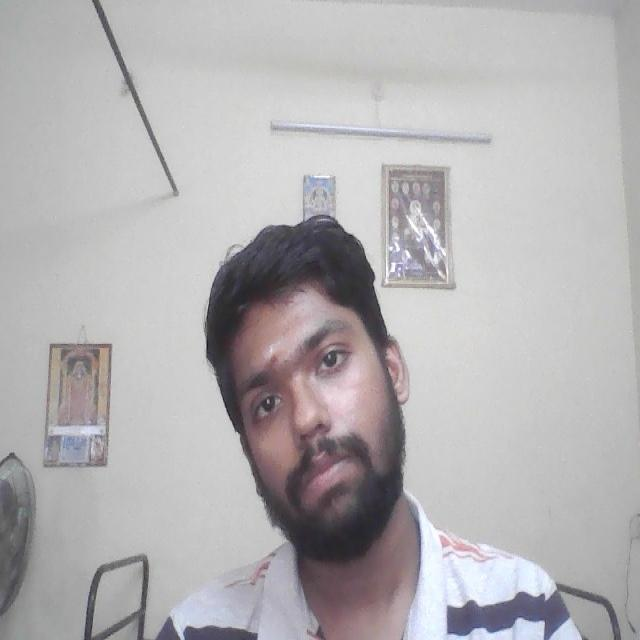Focused: (217, 292, 400, 516)
